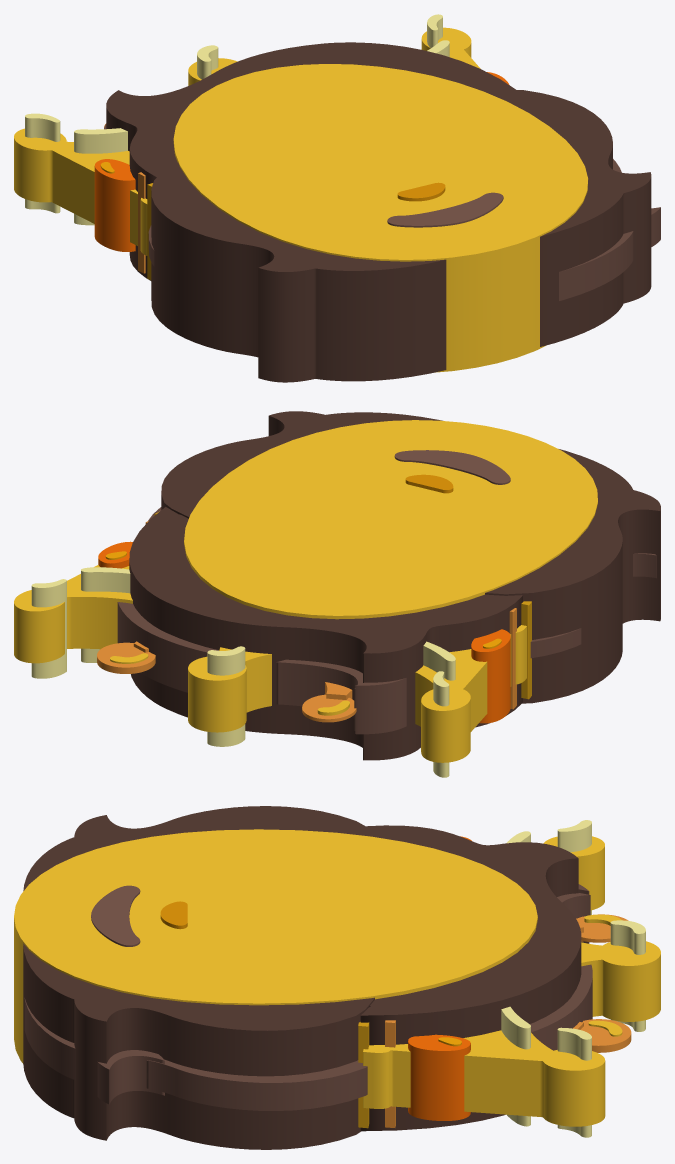
The model's file is emoji_u1fac5.glb.
3 renders of one model, top to bottom at view 1: azimuth 30°, elevation 25°; view 2: azimuth 150°, elevation 25°; view 3: azimuth 270°, elevation 25°, orthographic. The views are drawn at different scales.
Visible parts, largest first — view 1: emoji_u1fac5; view 2: emoji_u1fac5; view 3: emoji_u1fac5.
Part boxes in pixels (x1,y1,x2,y2): emoji_u1fac5: [14, 14, 660, 382]; emoji_u1fac5: [14, 411, 660, 777]; emoji_u1fac5: [14, 806, 660, 1149].
Size of the model in its own units: 0.0289 by 0.0074 by 0.0335.
